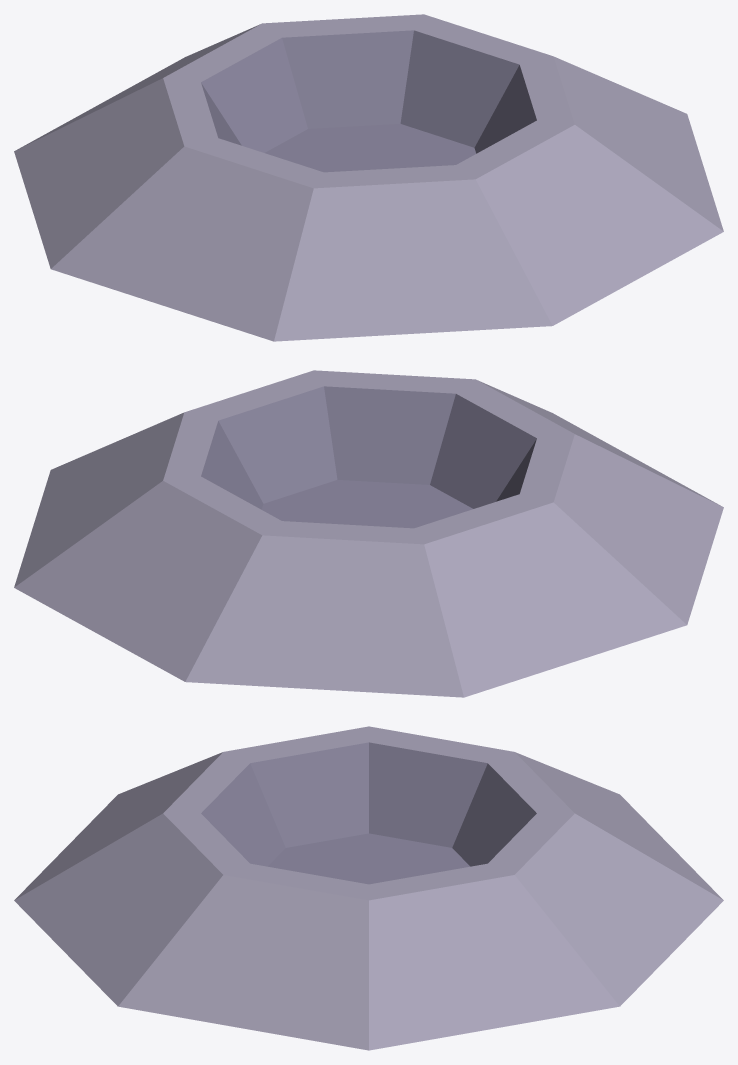
Rendered from craterLarge.glb.
The picture shows the model from 3 angles, top to bottom: view 1: azimuth 30°, elevation 25°; view 2: azimuth 150°, elevation 25°; view 3: azimuth 270°, elevation 25°; orthographic projection. The views are drawn at different scales.
Parts seen in each view (by area): view 1: craterLarge; view 2: craterLarge; view 3: craterLarge.
Boxes of the visible parts, <box> form: craterLarge: <box>14,14,723,341</box>; craterLarge: <box>14,370,723,697</box>; craterLarge: <box>14,726,723,1050</box>.
Bounding box in the file's own units: 0.886 × 0.12 × 0.886.
